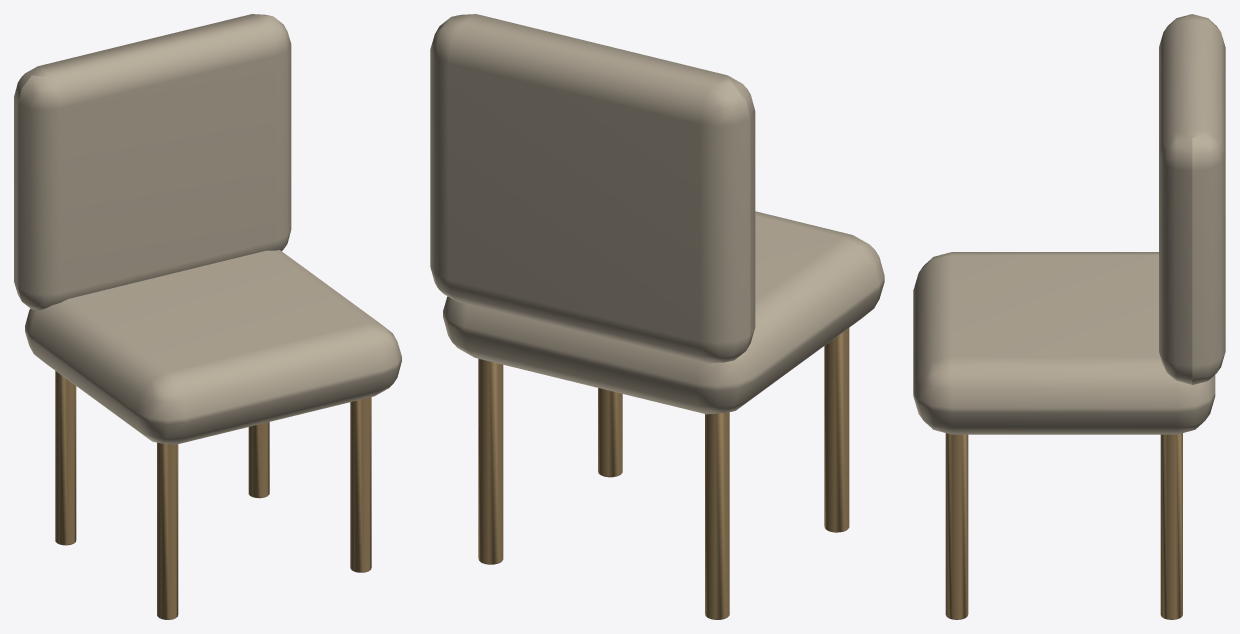
File: dining-chair.glb
3 renders of one model, left to right at view 1: azimuth 30°, elevation 25°; view 2: azimuth 150°, elevation 25°; view 3: azimuth 270°, elevation 25°, orthographic. The views are drawn at different scales.
Parts seen in each view (by area): view 1: Dining chair back.006, Dining chair seat.006, Dining chair bronze leg.024, Dining chair bronze leg.026, Dining chair bronze leg.025, Dining chair bronze leg.027; view 2: Dining chair back.006, Dining chair seat.006, Dining chair bronze leg.027, Dining chair bronze leg.025, Dining chair bronze leg.024, Dining chair bronze leg.026; view 3: Dining chair seat.006, Dining chair back.006, Dining chair bronze leg.026, Dining chair bronze leg.027.
Part boxes in pixels (x1,y1,x2,y2): Dining chair back.006: [14, 14, 291, 310]; Dining chair seat.006: [25, 250, 401, 444]; Dining chair bronze leg.024: [157, 442, 178, 619]; Dining chair bronze leg.026: [350, 397, 371, 572]; Dining chair bronze leg.025: [55, 371, 76, 545]; Dining chair bronze leg.027: [248, 422, 269, 498]; Dining chair back.006: [430, 14, 755, 363]; Dining chair seat.006: [443, 211, 884, 414]; Dining chair bronze leg.027: [478, 358, 503, 564]; Dining chair bronze leg.025: [705, 412, 729, 619]; Dining chair bronze leg.024: [824, 328, 849, 532]; Dining chair bronze leg.026: [598, 388, 622, 477]; Dining chair seat.006: [913, 252, 1215, 434]; Dining chair back.006: [1159, 14, 1225, 384]; Dining chair bronze leg.026: [945, 433, 968, 619]; Dining chair bronze leg.027: [1160, 433, 1182, 619].
Size of the model in its own units: 0.64 by 1.06 by 0.61.
